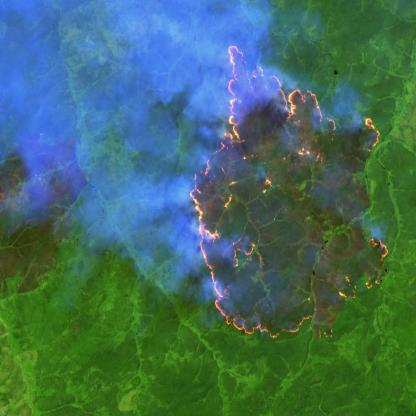fire: (181, 37, 392, 346)
